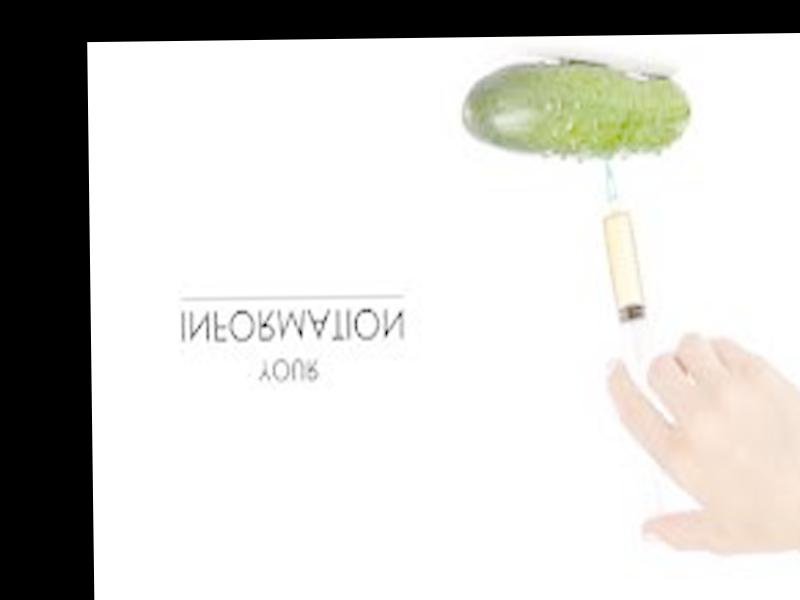Cucumber: (461, 65, 694, 161)
